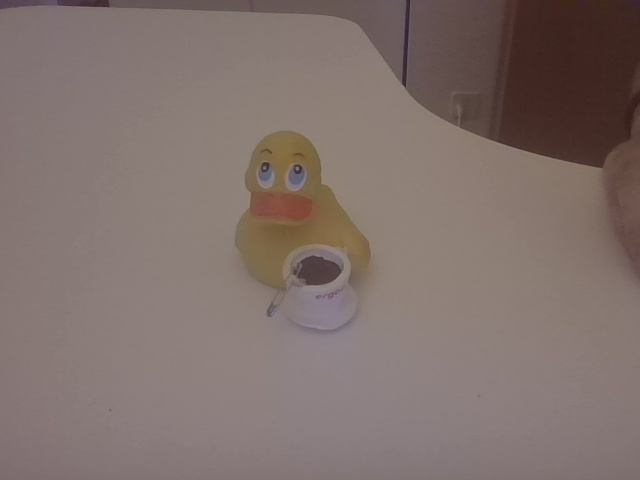duck: (223, 132, 381, 343)
